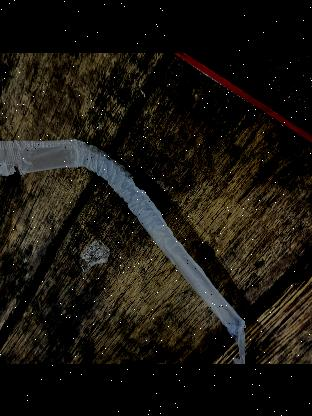Others: (0, 136, 248, 360)
